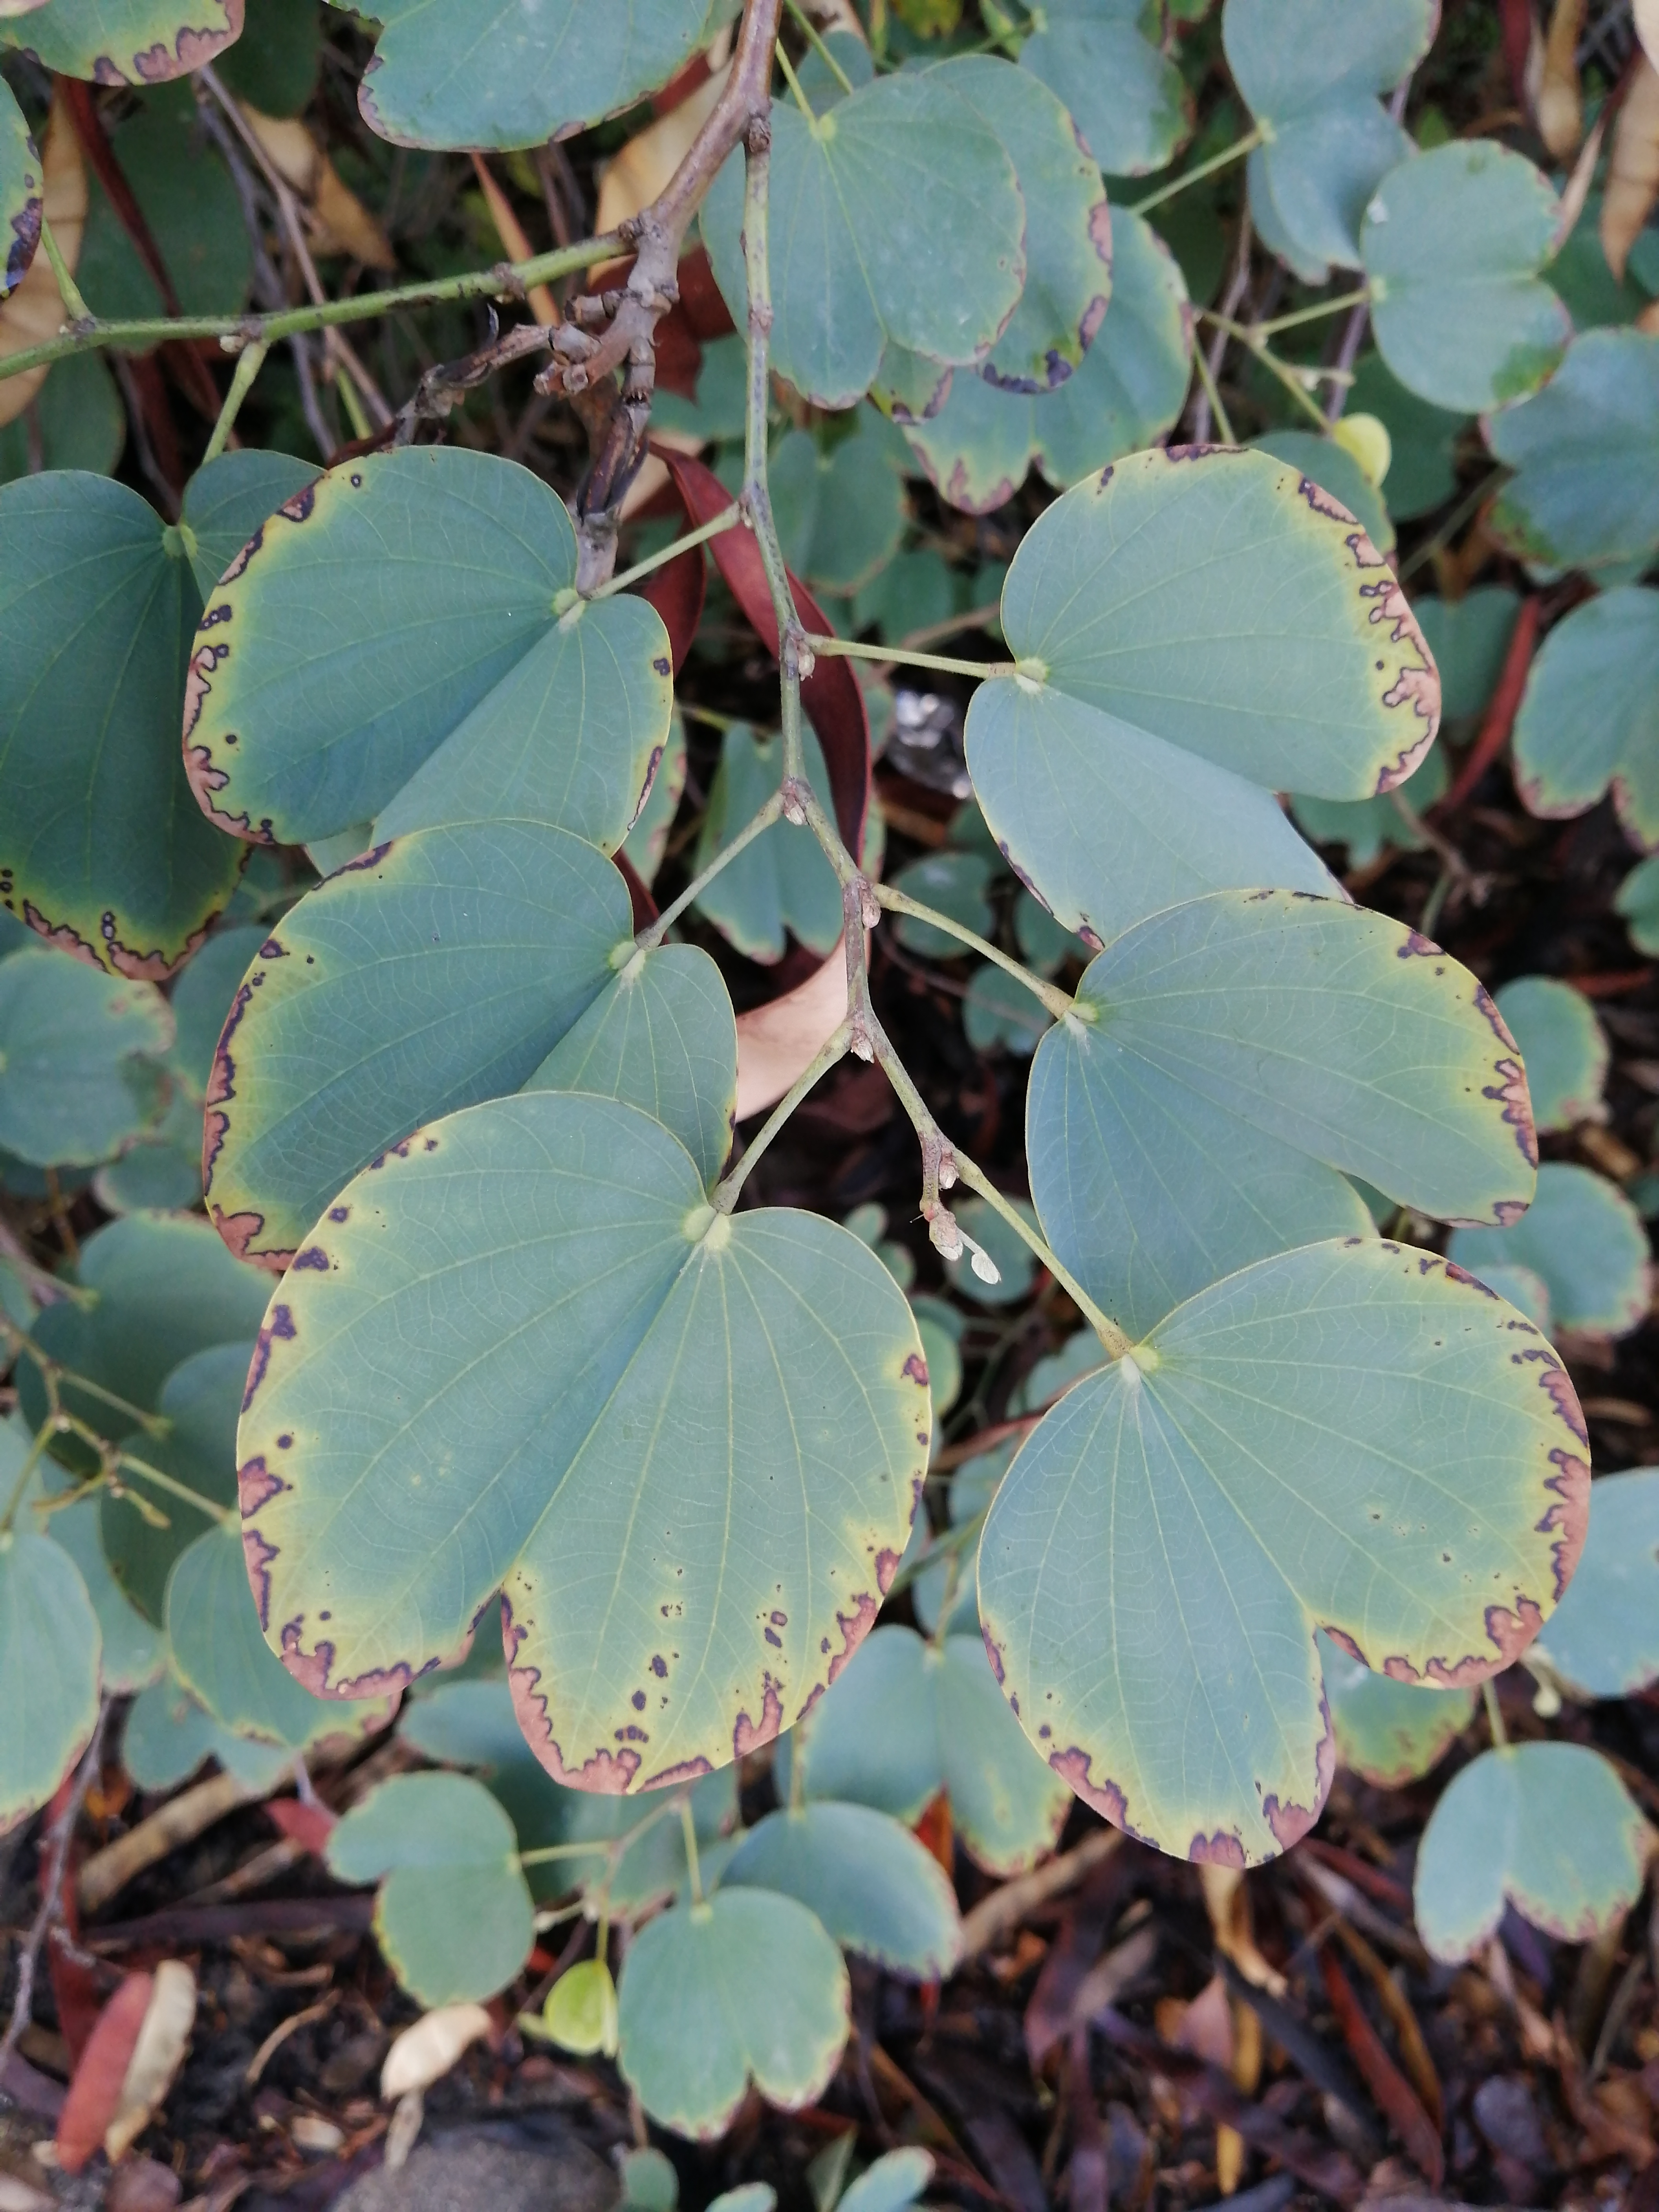nothealthy: (176, 1130, 983, 1791), (1002, 1244, 1574, 1902), (153, 822, 828, 1292), (953, 887, 1554, 1318), (176, 472, 737, 930), (0, 368, 366, 1045), (1002, 385, 1432, 958), (814, 44, 1127, 439), (678, 94, 1030, 404), (0, 2, 275, 94)
